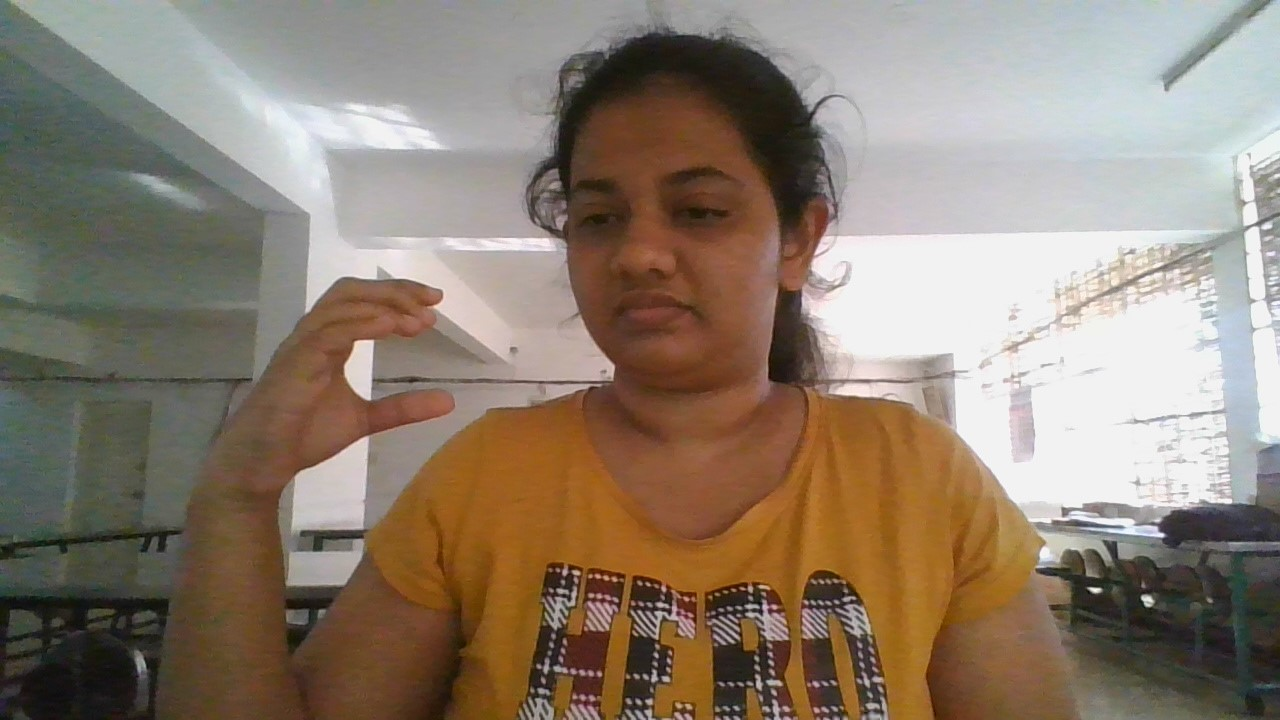c: (211, 255, 473, 497)
